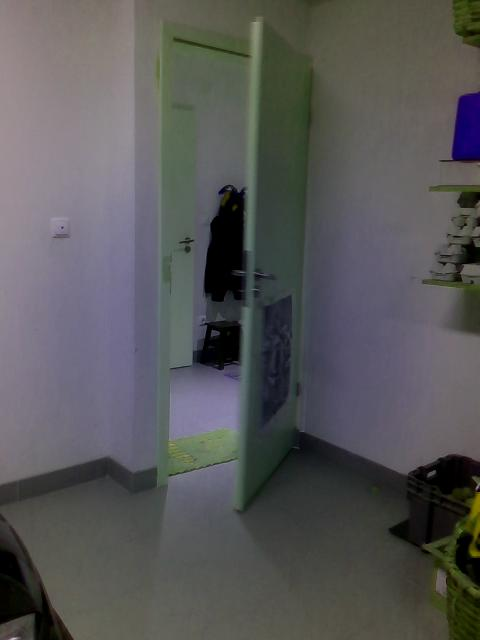semi_door: (156, 16, 315, 511)
